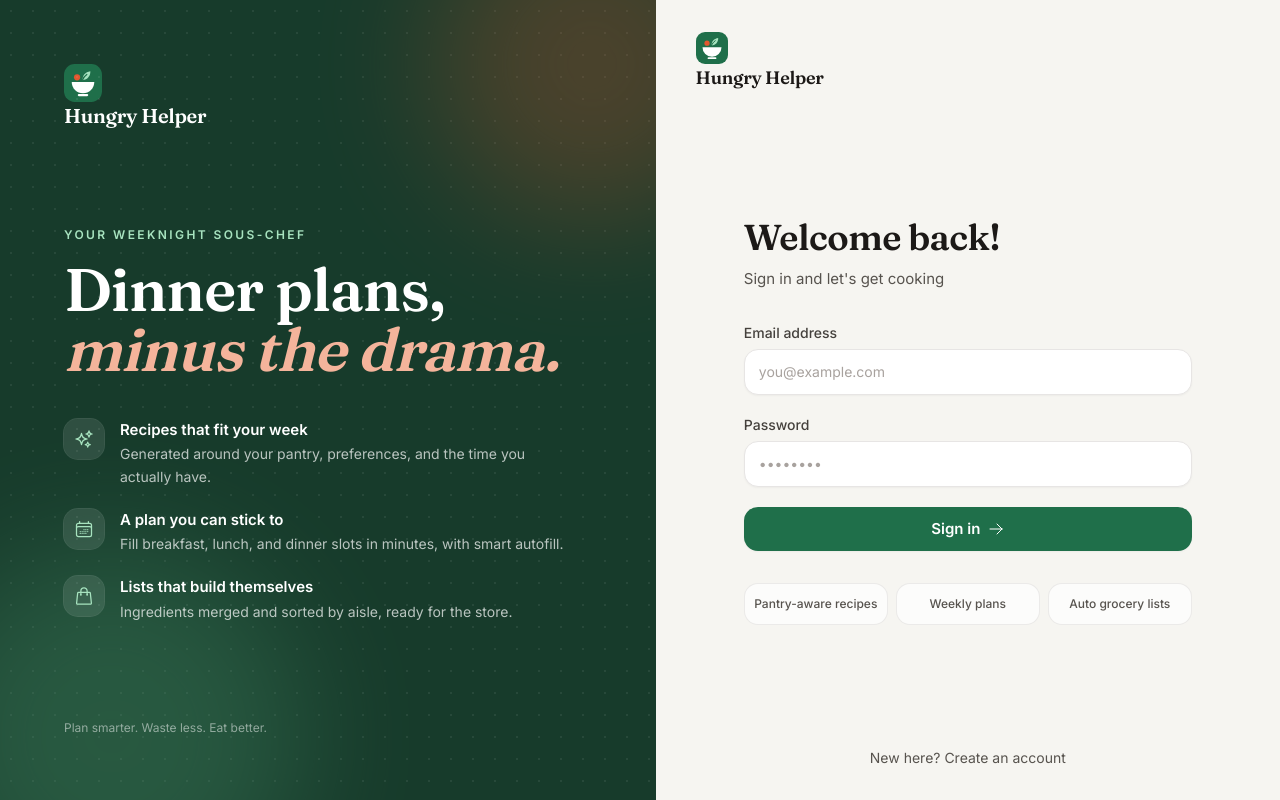
LoginPage › displays error message on login failure
The width and height of the screenshot is (1280, 800).
Type "test@example.com" into the field labelled "Email address" at (968, 372), box [744,349,1192,395]
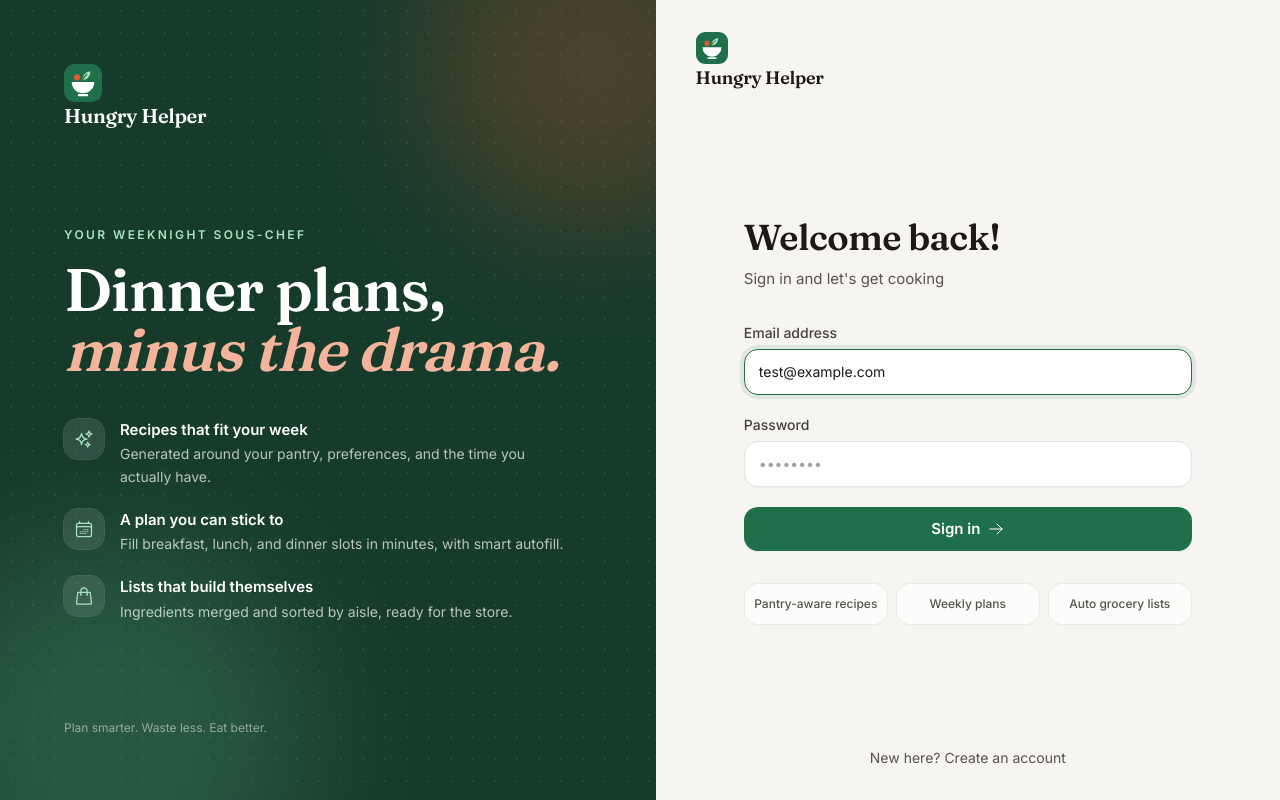
Type "wrong-password" into the password field labelled "Password" at (968, 464), box [744,441,1192,487]
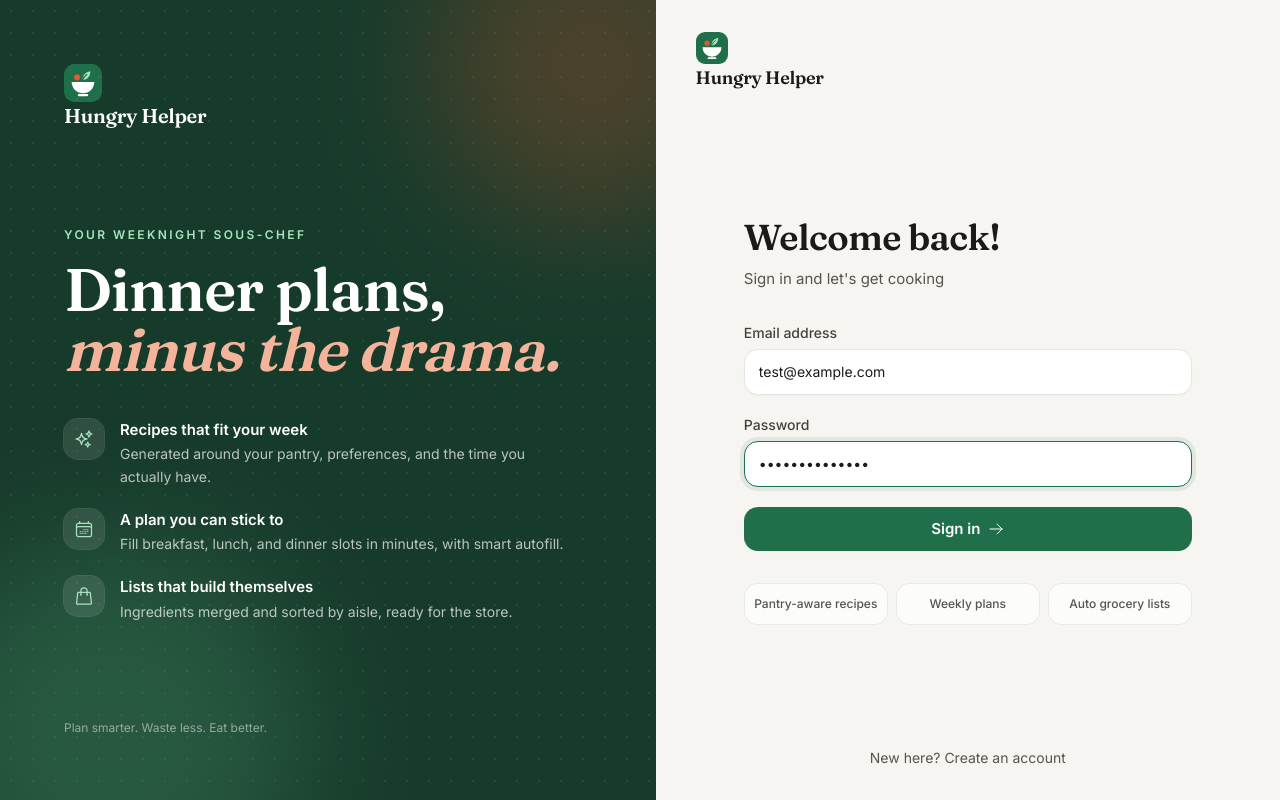
Click the button "Sign in" at (968, 529), box [744,507,1192,551]
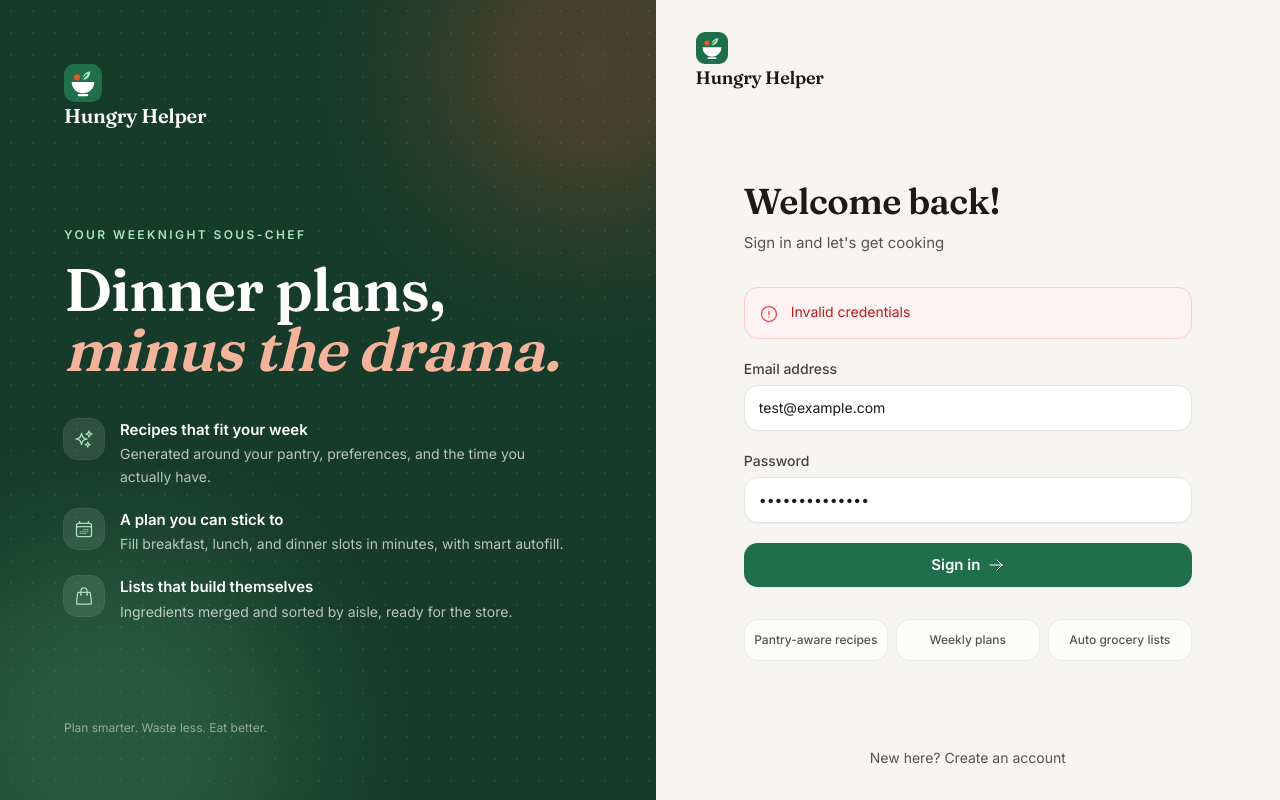
Expected: the text "Invalid credentials" is shown, [791,302,910,322]
